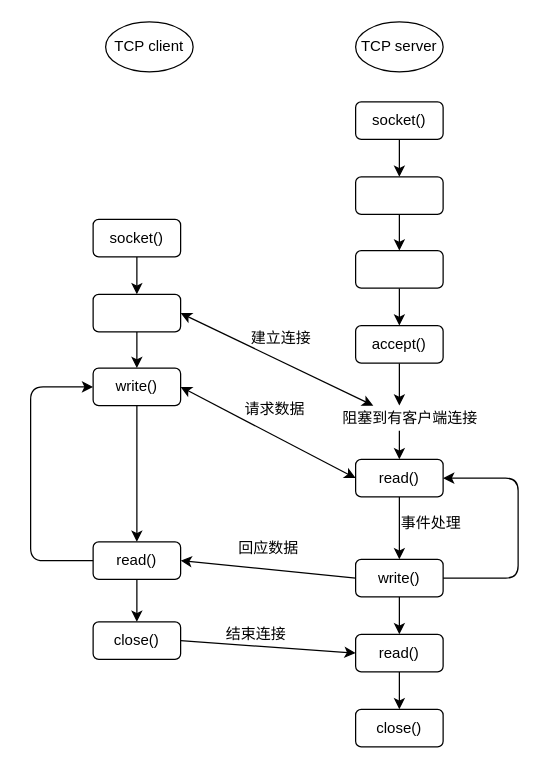
The diagram is 550 pixels wide and 769 high, and some of its shapes have lost their labels. The centre of each missing label's shape, as x and y in pixels:
"bind()" belongs at (398,195).
"connect()" belongs at (136,312).
"listen()" belongs at (398,268).
